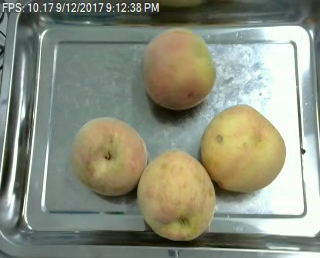Peach: (200, 104, 285, 194), (137, 148, 217, 242), (142, 26, 215, 110), (71, 117, 147, 196)
